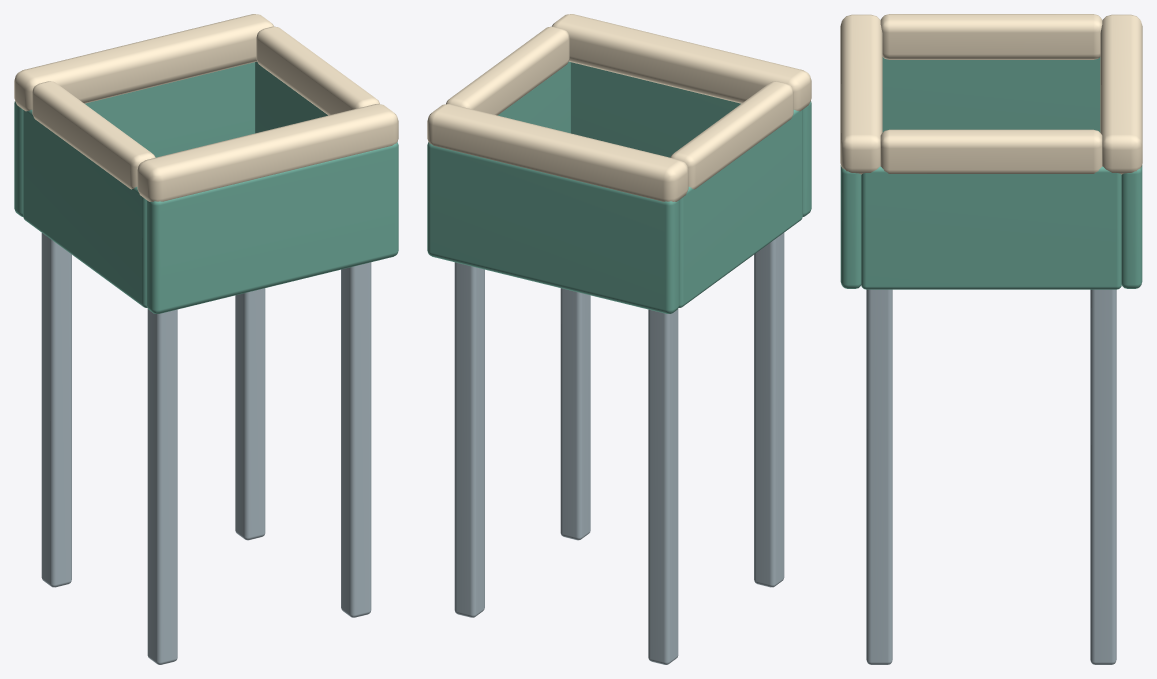
File: 1_well_cooled_module.fbx
3 views of the same model, side by side, from view 1: azimuth 30°, elevation 25°; view 2: azimuth 150°, elevation 25°; view 3: azimuth 270°, elevation 25° (orthographic). The views are drawn at different scales.
Visible parts, largest first — view 1: Toon_1_well_cooled_module Cooler wall.002, Toon_1_well_cooled_module Cooler side.002, Toon_1_well_cooled_module Well rim.002, Toon_1_well_cooled_module Removable leg.004, Toon_1_well_cooled_module Well rim.003, Toon_1_well_cooled_module Removable leg.006, Toon_1_well_cooled_module Cooler wall.003, Toon_1_well_cooled_module Removable leg.005, Toon_1_well_cooled_module Removable leg.007, Toon_1_well_cooled_module Well side.002, Toon_1_well_cooled_module Well side.003, Toon_1_well_cooled_module Cooler side.003; view 2: Toon_1_well_cooled_module Cooler wall.003, Toon_1_well_cooled_module Cooler side.002, Toon_1_well_cooled_module Well rim.003, Toon_1_well_cooled_module Removable leg.005, Toon_1_well_cooled_module Well rim.002, Toon_1_well_cooled_module Removable leg.007, Toon_1_well_cooled_module Cooler wall.002, Toon_1_well_cooled_module Removable leg.004, Toon_1_well_cooled_module Removable leg.006, Toon_1_well_cooled_module Well side.002, Toon_1_well_cooled_module Well side.003, Toon_1_well_cooled_module Cooler side.003; view 3: Toon_1_well_cooled_module Cooler side.003, Toon_1_well_cooled_module Cooler side.002, Toon_1_well_cooled_module Removable leg.006, Toon_1_well_cooled_module Removable leg.007, Toon_1_well_cooled_module Well side.002, Toon_1_well_cooled_module Well side.003, Toon_1_well_cooled_module Well rim.002, Toon_1_well_cooled_module Well rim.003, Toon_1_well_cooled_module Cooler wall.002, Toon_1_well_cooled_module Cooler wall.003.
Part boxes in pixels (x1=…): Toon_1_well_cooled_module Cooler wall.002: x1=146, y1=142, x2=398, y2=313; Toon_1_well_cooled_module Cooler side.002: x1=23, y1=110, x2=147, y2=307; Toon_1_well_cooled_module Well rim.002: x1=137, y1=104, x2=398, y2=201; Toon_1_well_cooled_module Removable leg.004: x1=147, y1=309, x2=177, y2=664; Toon_1_well_cooled_module Well rim.003: x1=14, y1=14, x2=273, y2=111; Toon_1_well_cooled_module Removable leg.006: x1=341, y1=262, x2=371, y2=617; Toon_1_well_cooled_module Cooler wall.003: x1=14, y1=62, x2=254, y2=216; Toon_1_well_cooled_module Removable leg.005: x1=41, y1=233, x2=71, y2=587; Toon_1_well_cooled_module Removable leg.007: x1=235, y1=288, x2=265, y2=540; Toon_1_well_cooled_module Well side.002: x1=32, y1=81, x2=155, y2=189; Toon_1_well_cooled_module Well side.003: x1=256, y1=26, x2=379, y2=115; Toon_1_well_cooled_module Cooler side.003: x1=255, y1=61, x2=327, y2=133; Toon_1_well_cooled_module Cooler wall.003: x1=427, y1=142, x2=679, y2=313; Toon_1_well_cooled_module Cooler side.002: x1=678, y1=110, x2=802, y2=307; Toon_1_well_cooled_module Well rim.003: x1=427, y1=104, x2=688, y2=201; Toon_1_well_cooled_module Removable leg.005: x1=648, y1=309, x2=678, y2=664; Toon_1_well_cooled_module Well rim.002: x1=552, y1=14, x2=811, y2=111; Toon_1_well_cooled_module Removable leg.007: x1=454, y1=262, x2=484, y2=617; Toon_1_well_cooled_module Cooler wall.002: x1=571, y1=62, x2=811, y2=216; Toon_1_well_cooled_module Removable leg.004: x1=754, y1=233, x2=784, y2=587; Toon_1_well_cooled_module Removable leg.006: x1=560, y1=288, x2=590, y2=540; Toon_1_well_cooled_module Well side.002: x1=670, y1=81, x2=793, y2=189; Toon_1_well_cooled_module Well side.003: x1=446, y1=26, x2=569, y2=115; Toon_1_well_cooled_module Cooler side.003: x1=498, y1=61, x2=570, y2=133; Toon_1_well_cooled_module Cooler side.003: x1=861, y1=166, x2=1121, y2=289; Toon_1_well_cooled_module Cooler side.002: x1=882, y1=57, x2=1100, y2=132; Toon_1_well_cooled_module Removable leg.006: x1=866, y1=289, x2=892, y2=664; Toon_1_well_cooled_module Removable leg.007: x1=1090, y1=289, x2=1116, y2=664; Toon_1_well_cooled_module Well side.002: x1=880, y1=14, x2=1102, y2=59; Toon_1_well_cooled_module Well side.003: x1=880, y1=129, x2=1102, y2=173; Toon_1_well_cooled_module Well rim.002: x1=840, y1=14, x2=882, y2=174; Toon_1_well_cooled_module Well rim.003: x1=1100, y1=14, x2=1142, y2=174; Toon_1_well_cooled_module Cooler wall.002: x1=840, y1=165, x2=861, y2=288; Toon_1_well_cooled_module Cooler wall.003: x1=1121, y1=165, x2=1142, y2=288.
Bounding box in the file's own units: 49 × 95.1 × 48.6.
